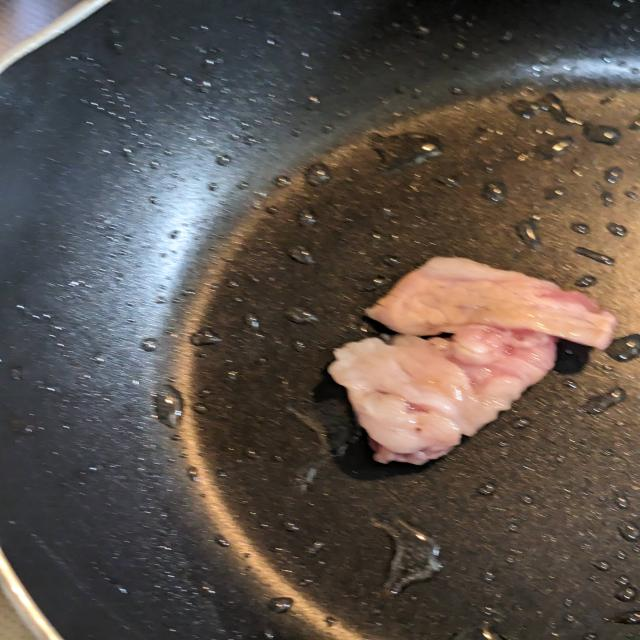NG undercooked pork,: (302, 229, 633, 482)
